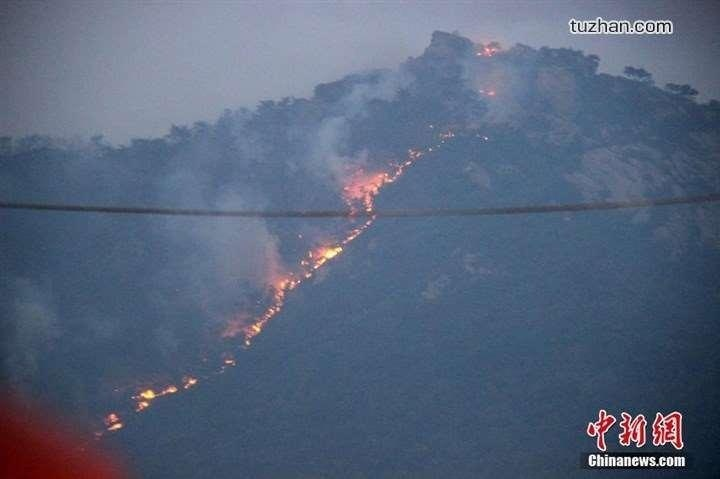fire: (233, 223, 353, 342), (341, 148, 412, 214), (477, 36, 499, 57)
